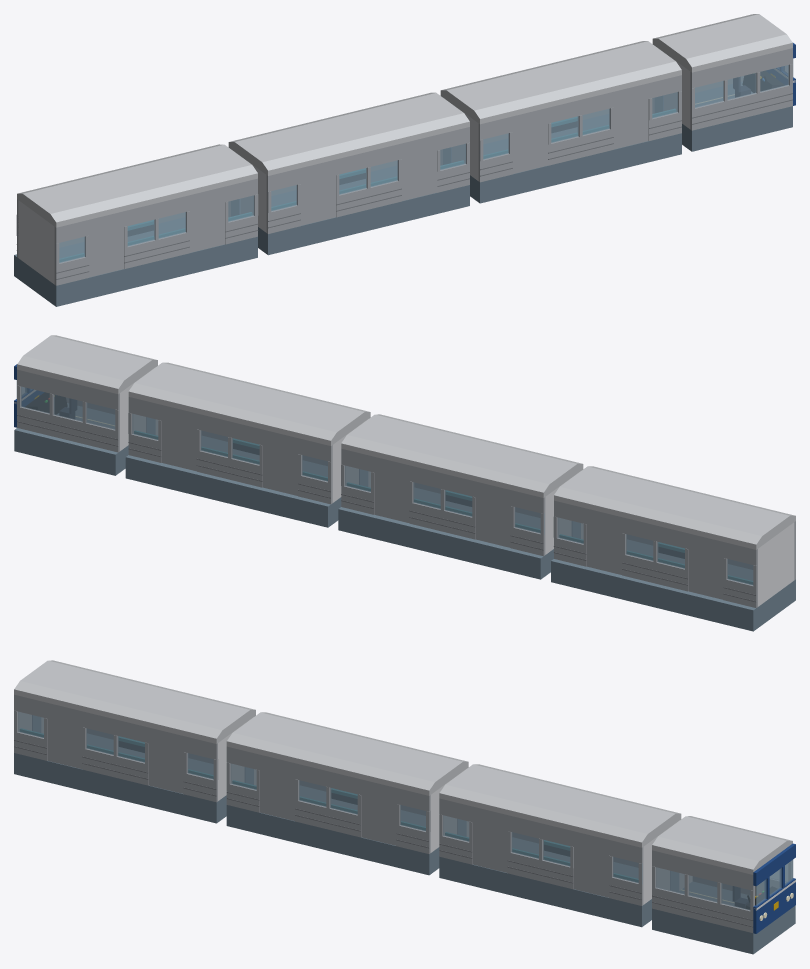
The model's file is Train.obj.
3 views of the same model, one above another, from view 1: azimuth 30°, elevation 25°; view 2: azimuth 150°, elevation 25°; view 3: azimuth 330°, elevation 25° (orthographic).
Parts seen in each view (by area): view 1: ClosedCarWest, TrainCar, ClosedCarEast, DriverCab; view 2: ClosedCarWest, ClosedCarEast, TrainCar, DriverCab; view 3: TrainCar, ClosedCarEast, ClosedCarWest, DriverCab.
Part boxes in pixels (box(x1,y1,x2,y2)): ClosedCarWest: box(14, 144, 258, 306); TrainCar: box(228, 92, 469, 255); ClosedCarEast: box(440, 41, 681, 203); DriverCab: box(652, 14, 795, 151); ClosedCarWest: box(551, 466, 795, 631); ClosedCarEast: box(125, 362, 370, 527); TrainCar: box(338, 414, 583, 579); DriverCab: box(14, 335, 157, 475); TrainCar: box(226, 712, 468, 875); ClosedCarEast: box(439, 764, 681, 927); ClosedCarWest: box(14, 660, 255, 823); DriverCab: box(652, 816, 795, 954).
Bounding box in the file's own units: 147 × 16.8 × 14.56.
